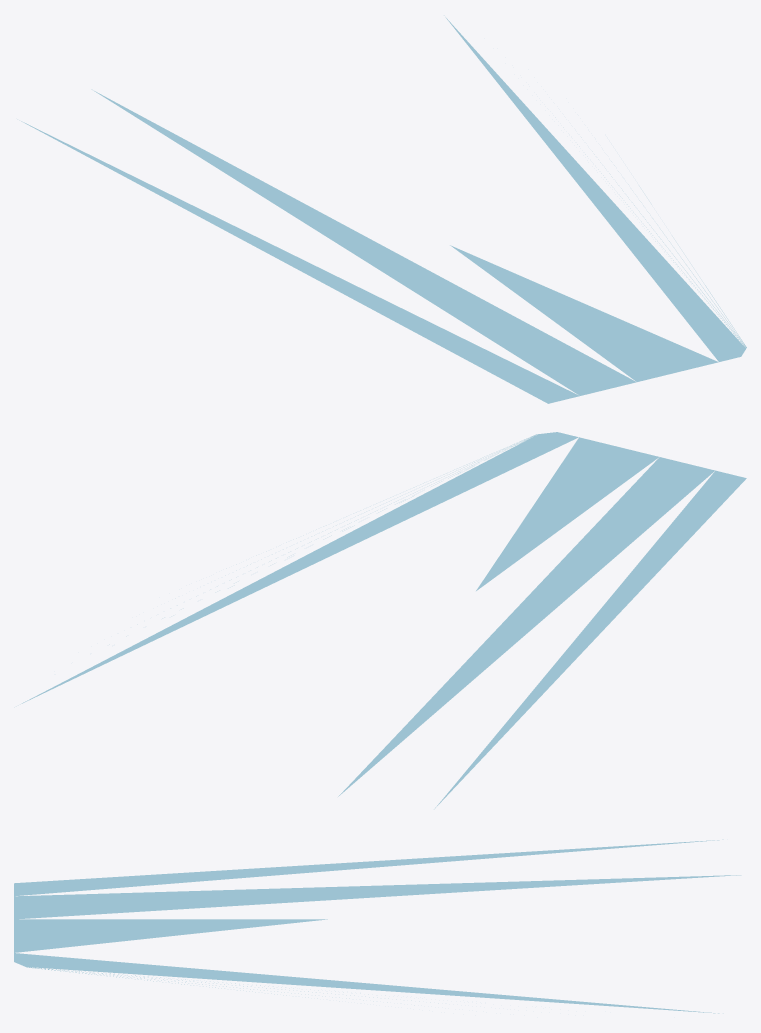
File: terrain-context-D-x5-z2.glb
The picture shows the model from 3 angles, top to bottom: view 1: azimuth 30°, elevation 25°; view 2: azimuth 150°, elevation 25°; view 3: azimuth 270°, elevation 25°; orthographic projection. The views are drawn at different scales.
Parts seen in each view (by area): view 1: D-x5-z2; view 2: D-x5-z2; view 3: D-x5-z2.
Part boxes in pixels (box(x1,y1,x2,y2)): D-x5-z2: box(17, 15, 746, 403); D-x5-z2: box(14, 432, 746, 809); D-x5-z2: box(14, 839, 741, 1013).
Bounding box in the file's own units: 128 × 0 × 222.
